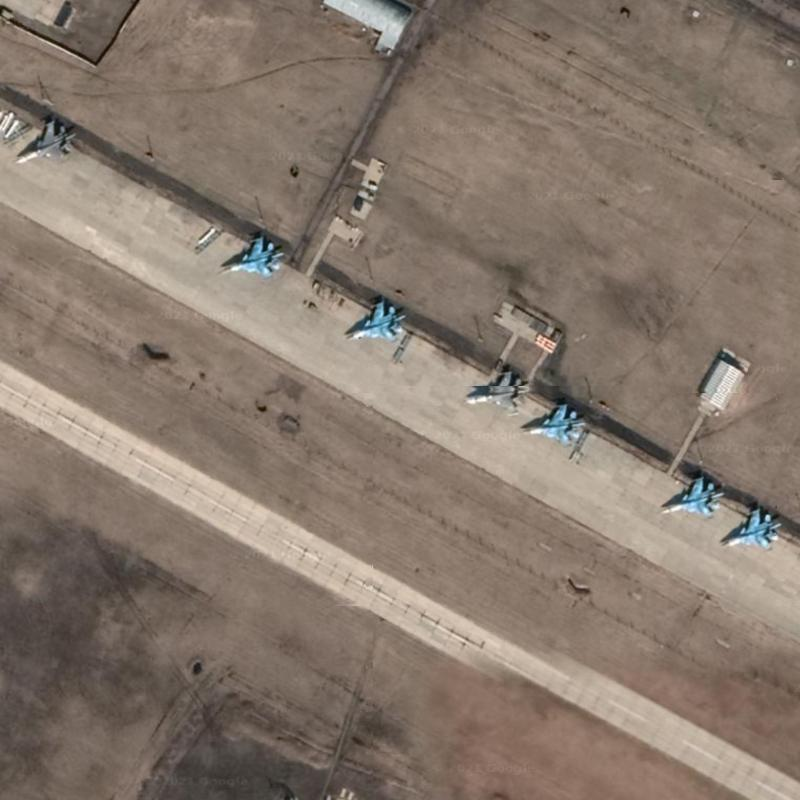A19: (216, 233, 286, 283), (519, 401, 588, 450), (657, 473, 726, 522), (461, 368, 530, 416), (718, 504, 782, 553), (13, 117, 77, 164), (343, 297, 407, 344)
